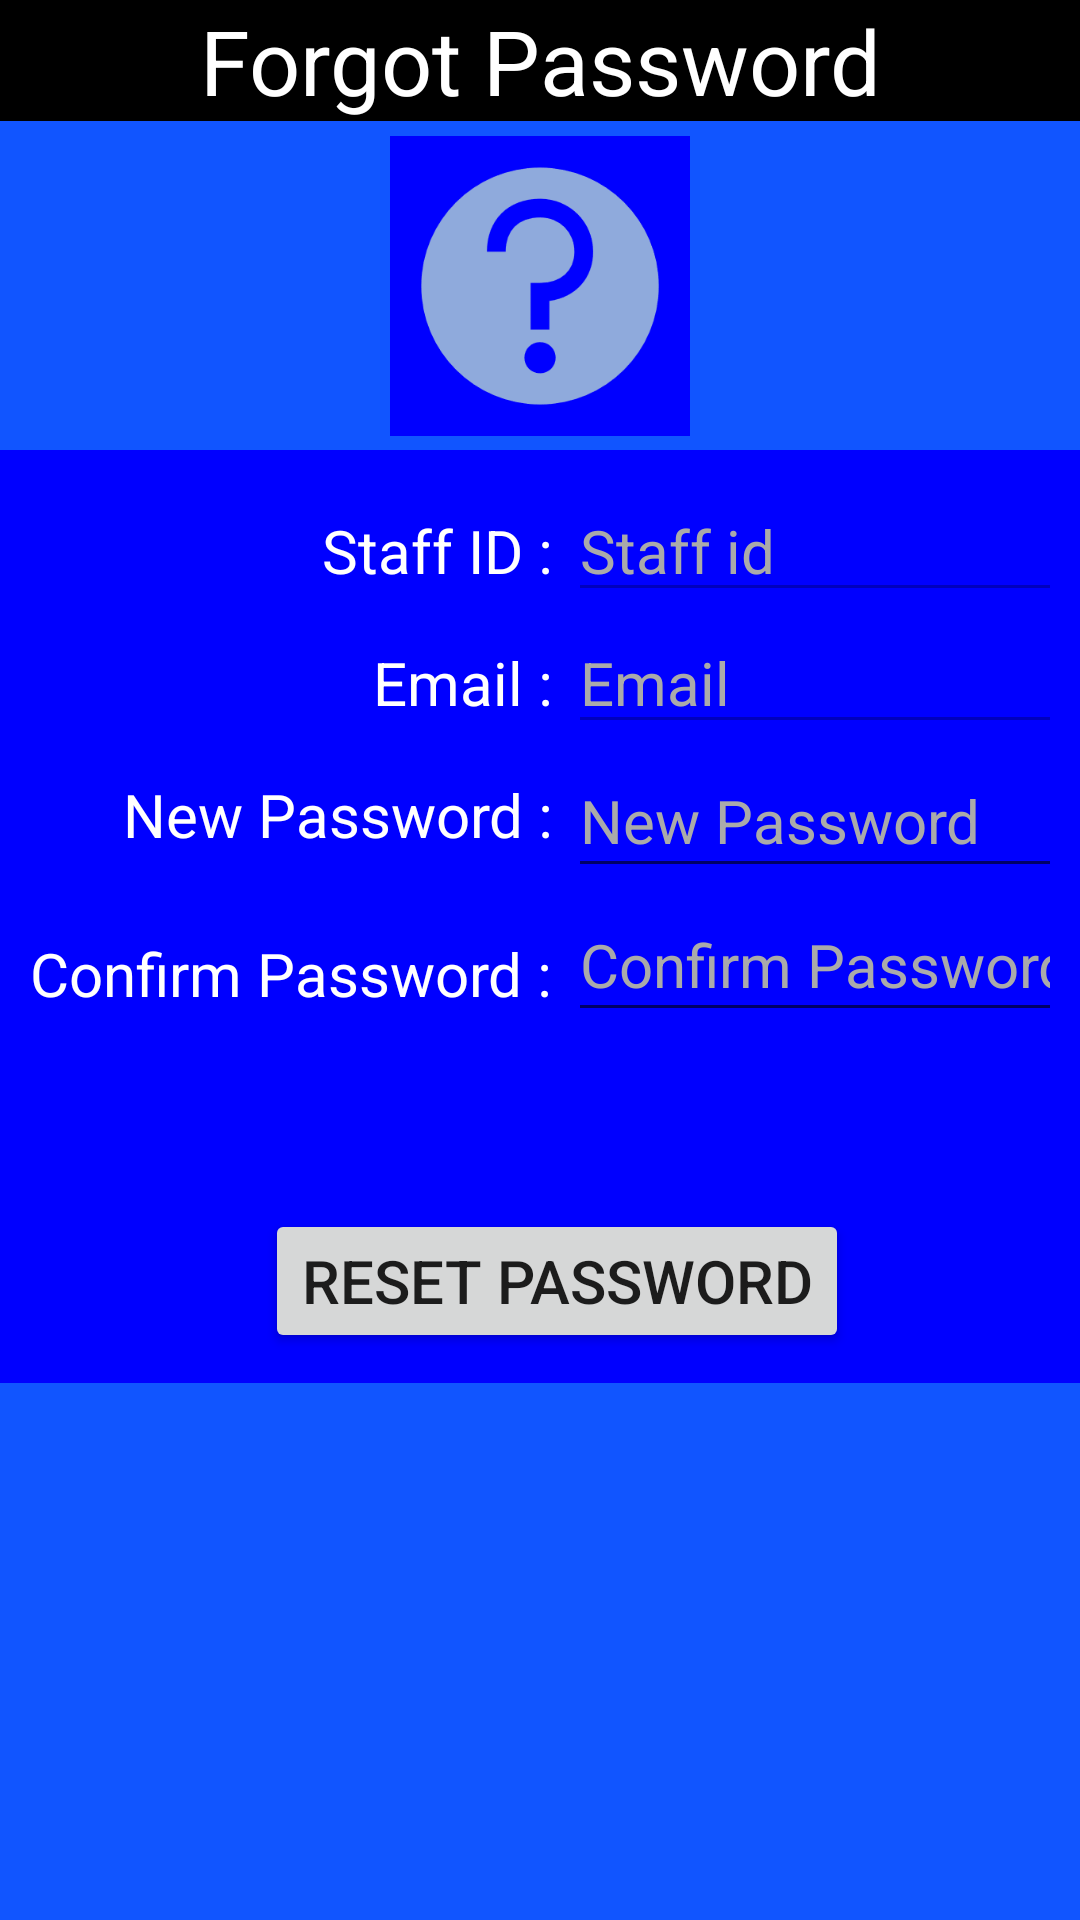

Screen size 1080*1920. Icon name, then its center in pixels as (x=x, y=y):
ask: (x=540, y=286)
